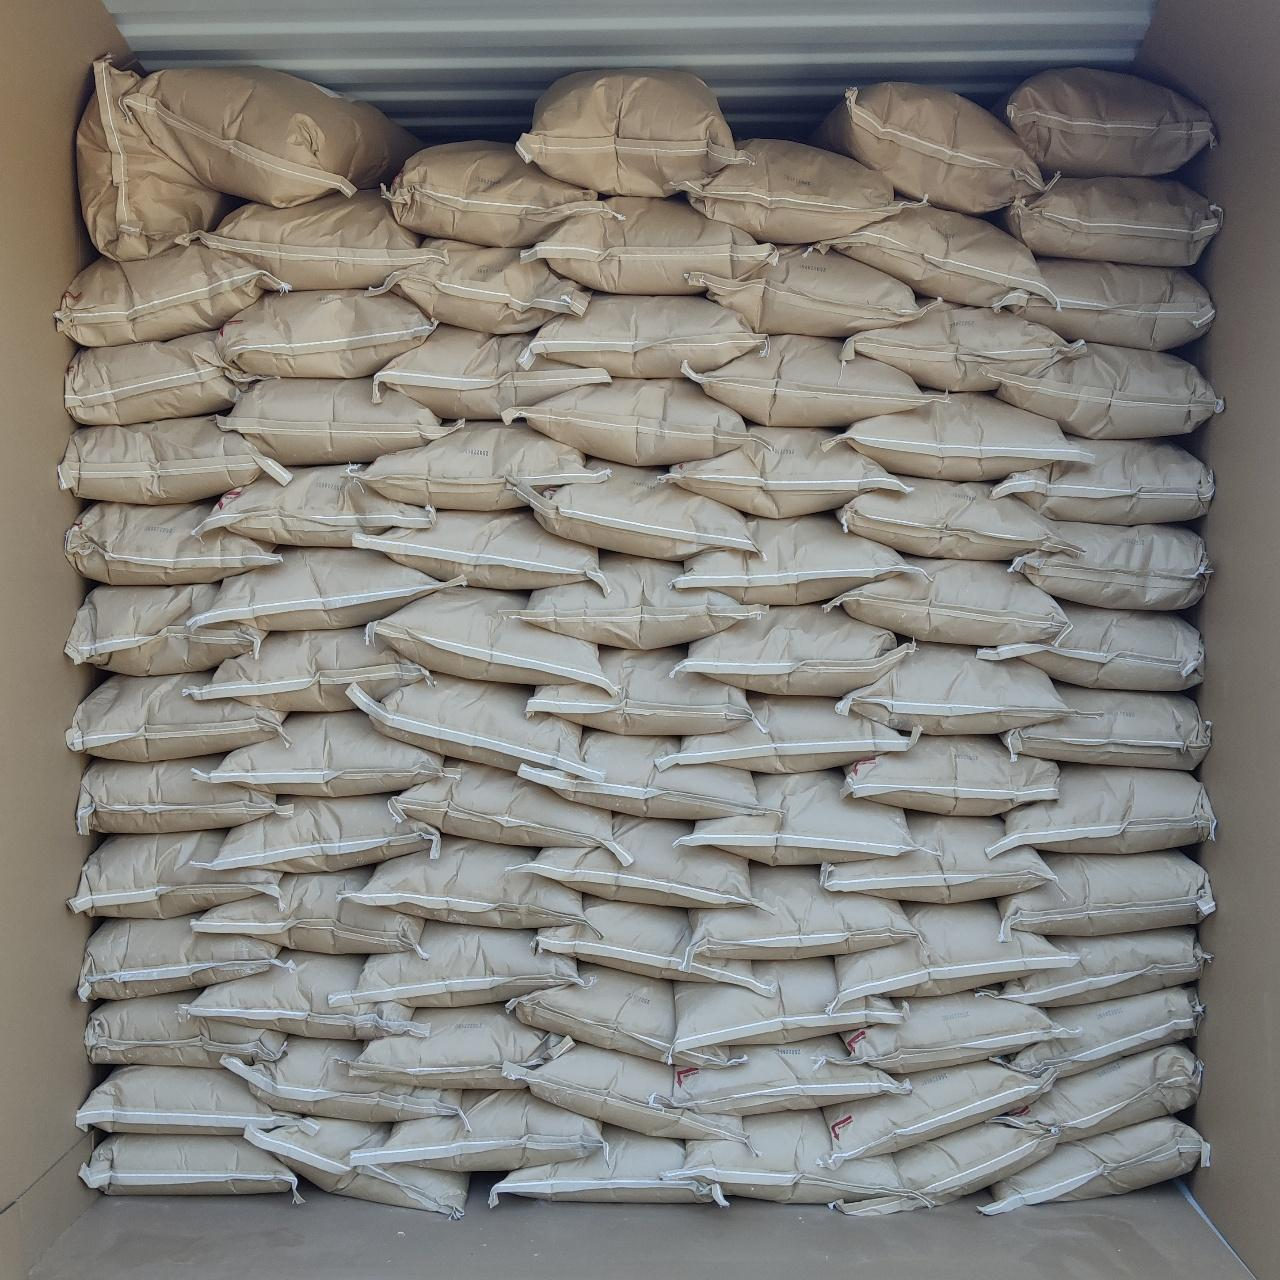sack: (120, 67, 418, 206), (810, 83, 1051, 215), (77, 55, 225, 260), (517, 69, 754, 197), (806, 203, 1062, 316), (348, 672, 604, 781), (828, 901, 1077, 1013), (367, 587, 614, 697), (176, 189, 443, 290), (815, 1058, 1056, 1170), (665, 139, 922, 243), (679, 862, 917, 971), (382, 141, 625, 247), (54, 239, 291, 347), (389, 760, 631, 864), (670, 958, 907, 1063), (522, 197, 778, 294), (503, 556, 767, 649), (674, 771, 938, 865), (506, 965, 744, 1068), (533, 896, 774, 998), (519, 457, 754, 560), (508, 813, 760, 908), (645, 425, 903, 518), (503, 1037, 740, 1138), (821, 393, 1091, 481), (328, 920, 593, 1008), (342, 422, 610, 509), (192, 710, 458, 797), (670, 604, 915, 697), (186, 549, 465, 631), (980, 1116, 1210, 1216), (663, 1109, 907, 1203), (982, 343, 1223, 438), (830, 1116, 1058, 1216), (669, 515, 927, 602), (688, 248, 946, 336), (350, 510, 611, 597), (220, 1036, 469, 1126), (1008, 67, 1213, 175), (682, 335, 927, 425), (178, 951, 429, 1039), (840, 301, 1084, 392), (374, 325, 608, 418), (245, 1119, 468, 1218), (215, 377, 461, 467), (347, 837, 583, 930), (519, 731, 765, 819), (655, 692, 918, 774), (821, 811, 1055, 903), (502, 379, 748, 465), (370, 237, 590, 334), (837, 644, 1073, 734), (517, 292, 765, 377), (822, 558, 1068, 644), (350, 1091, 610, 1172), (986, 765, 1213, 857), (57, 416, 291, 505), (191, 867, 424, 956), (837, 476, 1077, 561), (978, 600, 1203, 690), (186, 627, 427, 712), (990, 985, 1203, 1080), (835, 992, 1083, 1073), (996, 1044, 1201, 1142), (66, 672, 290, 761), (649, 1036, 903, 1115), (998, 850, 1214, 941), (527, 647, 753, 734), (193, 467, 434, 547), (1002, 178, 1223, 266), (215, 291, 437, 377), (192, 795, 440, 872), (842, 727, 1058, 815), (978, 926, 1211, 1007), (348, 1005, 574, 1088), (992, 440, 1214, 524), (67, 830, 279, 918), (64, 584, 265, 675), (77, 917, 295, 1000), (64, 331, 256, 425), (488, 1132, 728, 1207), (1020, 258, 1214, 350), (66, 501, 279, 585), (1009, 522, 1211, 610), (76, 754, 293, 835), (1002, 685, 1208, 768), (77, 1067, 319, 1135), (86, 990, 287, 1067), (79, 1133, 302, 1201), (629, 486, 644, 497)
